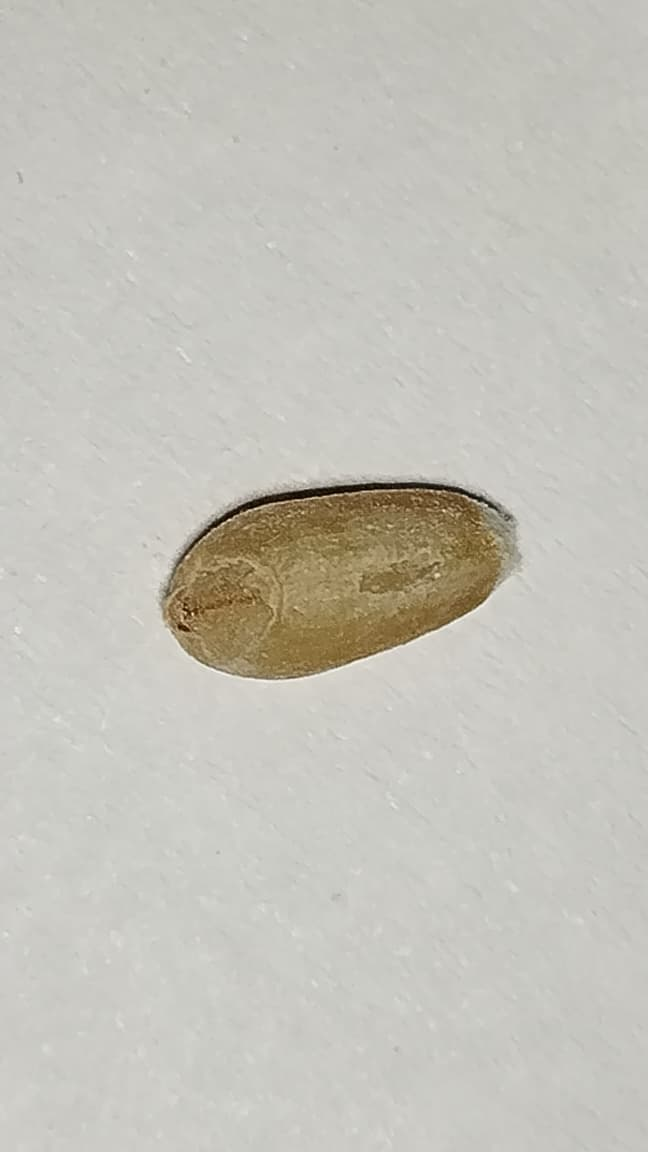damage: (168, 489, 514, 676)
insectdamage: (162, 541, 293, 680), (344, 543, 461, 614)
